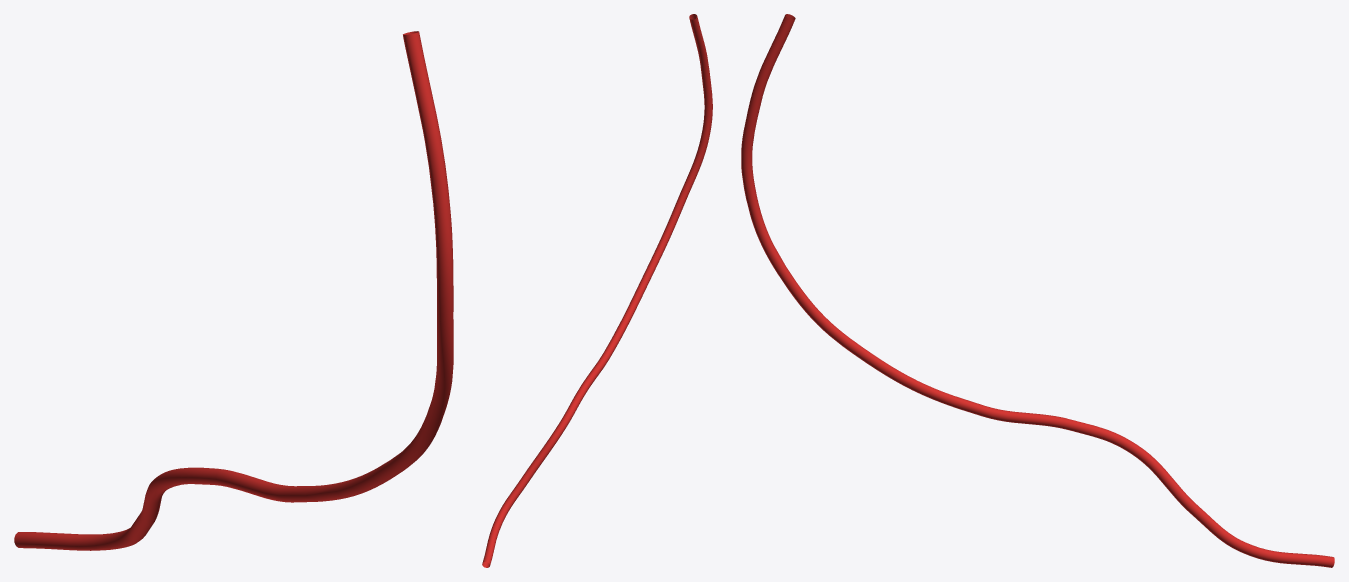
Rendered from circulatorio-anterior-septal-branches-of-anterior-ethmoidal-artery-l.glb.
3 views of the same model, side by side, from view 1: azimuth 30°, elevation 25°; view 2: azimuth 150°, elevation 25°; view 3: azimuth 270°, elevation 25° (orthographic). The views are drawn at different scales.
Parts seen in each view (by area): view 1: Anterior septal branches of anterior ethmoidal artery.l; view 2: Anterior septal branches of anterior ethmoidal artery.l; view 3: Anterior septal branches of anterior ethmoidal artery.l.
Boxes of the visible parts, box(x1,y1,x2,y2) form: Anterior septal branches of anterior ethmoidal artery.l: box(14, 31, 453, 550); Anterior septal branches of anterior ethmoidal artery.l: box(482, 14, 712, 567); Anterior septal branches of anterior ethmoidal artery.l: box(741, 14, 1334, 567).
Size of the model in its own units: 0.00173 by 0.0216 by 0.0212.
